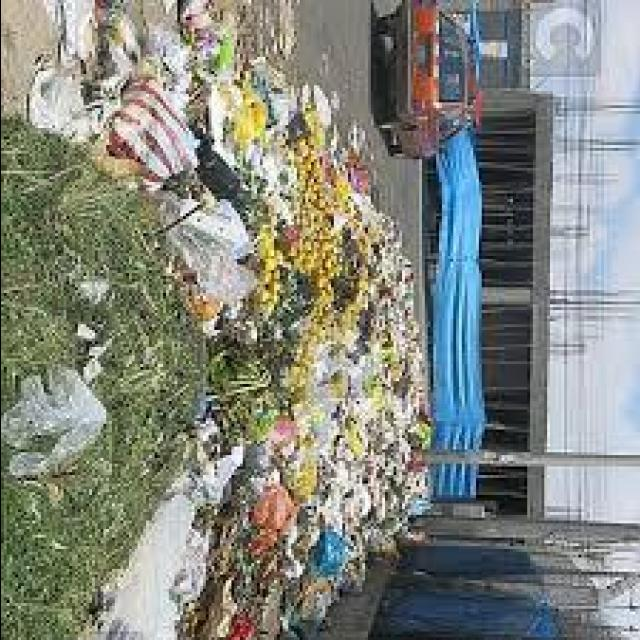garbage: (13, 0, 429, 640)
